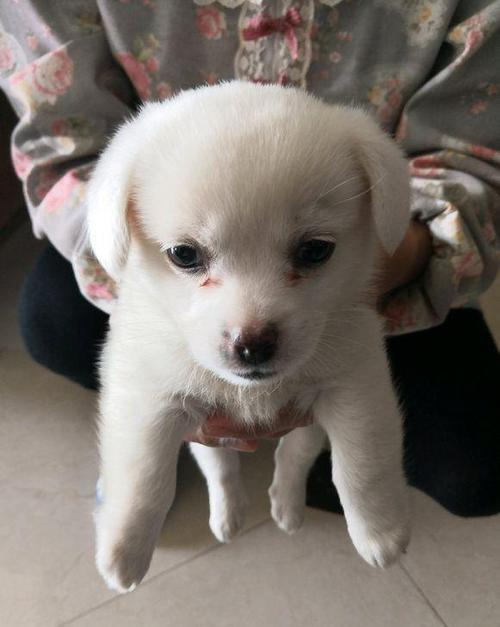dog: (88, 77, 435, 416)
